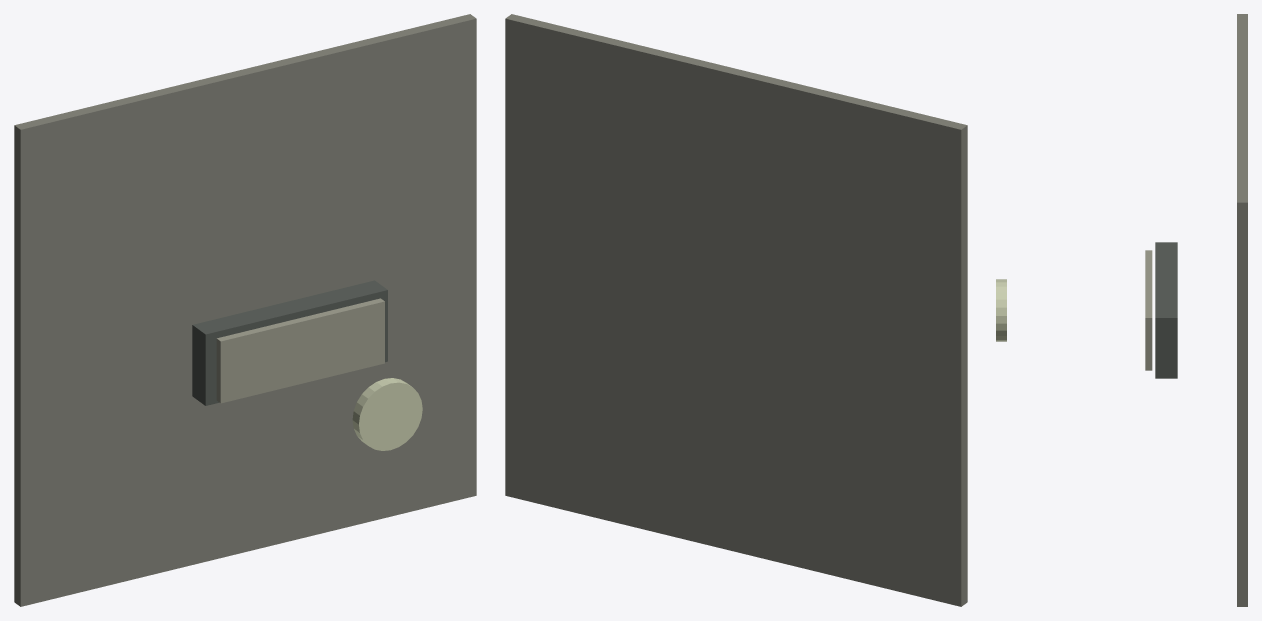
Rendered from hospital_surgery_room.obj.
3 views of the same model, side by side, from view 1: azimuth 30°, elevation 25°; view 2: azimuth 150°, elevation 25°; view 3: azimuth 270°, elevation 25° (orthographic). The views are drawn at different scales.
Visible parts, largest first — view 1: hospital_surgery_room; view 2: hospital_surgery_room; view 3: hospital_surgery_room.
Boxes of the visible parts, left/top/right/bottom form: hospital_surgery_room: left=14, top=14, right=476, bottom=606; hospital_surgery_room: left=505, top=14, right=967, bottom=606; hospital_surgery_room: left=996, top=14, right=1247, bottom=606.
Bounding box in the file's own units: 5 × 5 × 2.82.
